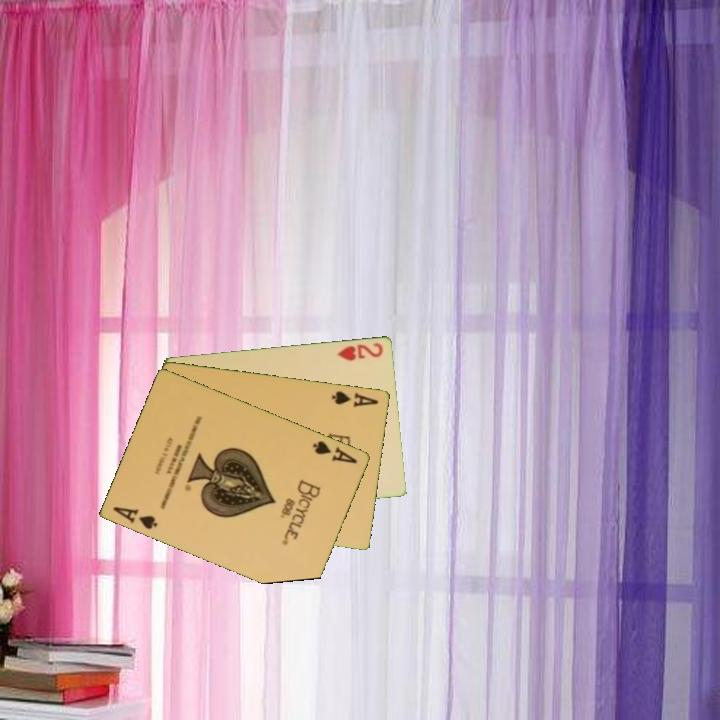2h: (334, 339, 386, 363)
As: (309, 437, 360, 466), (110, 503, 161, 532), (328, 387, 382, 410)
